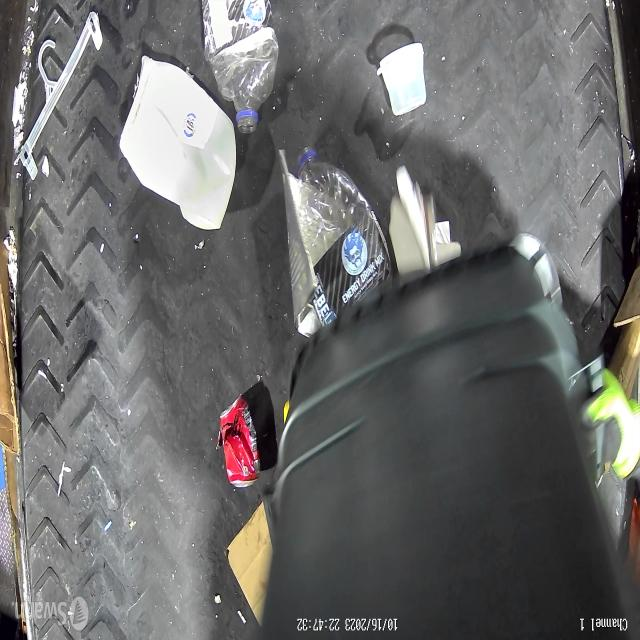can: (220, 394, 262, 488)
milk_jug: (118, 55, 236, 228)
plastic_bottle: (207, 2, 279, 134), (297, 146, 374, 266)
